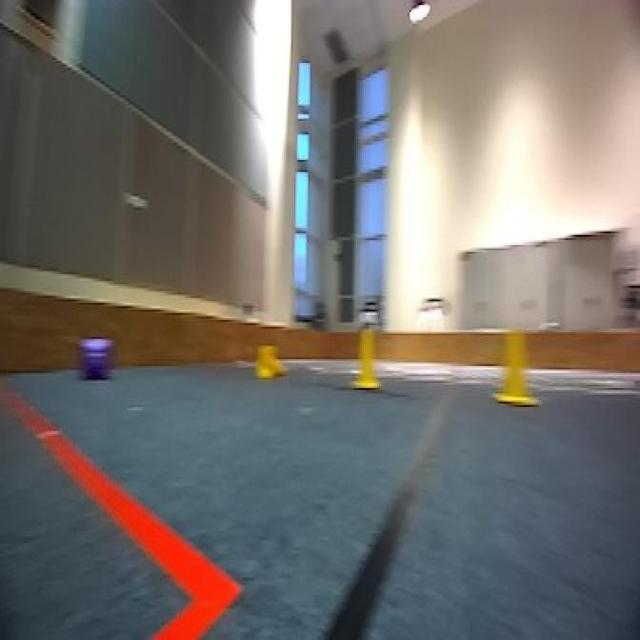frc_cone: (488, 322, 544, 408), (348, 324, 386, 386), (254, 344, 288, 379)
frc_cube: (83, 334, 114, 383)
